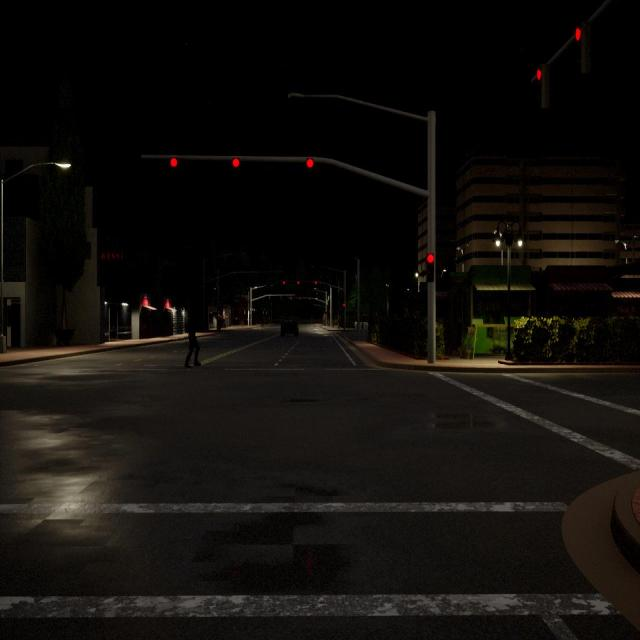Pedestrian: (184, 314, 202, 368)
Vehicle: (280, 318, 299, 338)
traffic_light: (536, 63, 549, 109), (575, 23, 586, 73), (426, 253, 434, 282), (306, 158, 314, 170), (232, 158, 240, 168), (170, 157, 177, 167), (297, 281, 300, 284), (343, 304, 345, 308), (283, 281, 285, 284), (315, 282, 317, 284)
